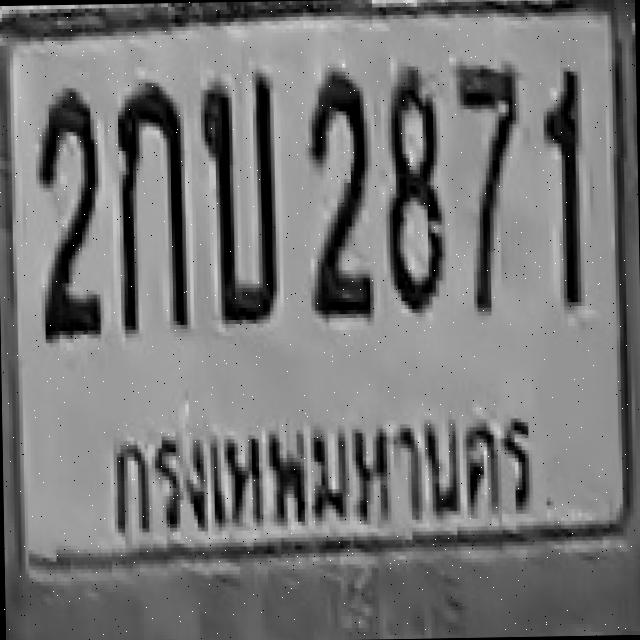1: (540, 70, 582, 300), (539, 70, 584, 280)
10GorGai: (114, 80, 186, 332)
2: (34, 109, 100, 337), (306, 96, 372, 316)
7: (454, 62, 520, 298), (454, 62, 519, 214)
8: (381, 66, 444, 313)
Bangkok: (95, 398, 542, 556)
